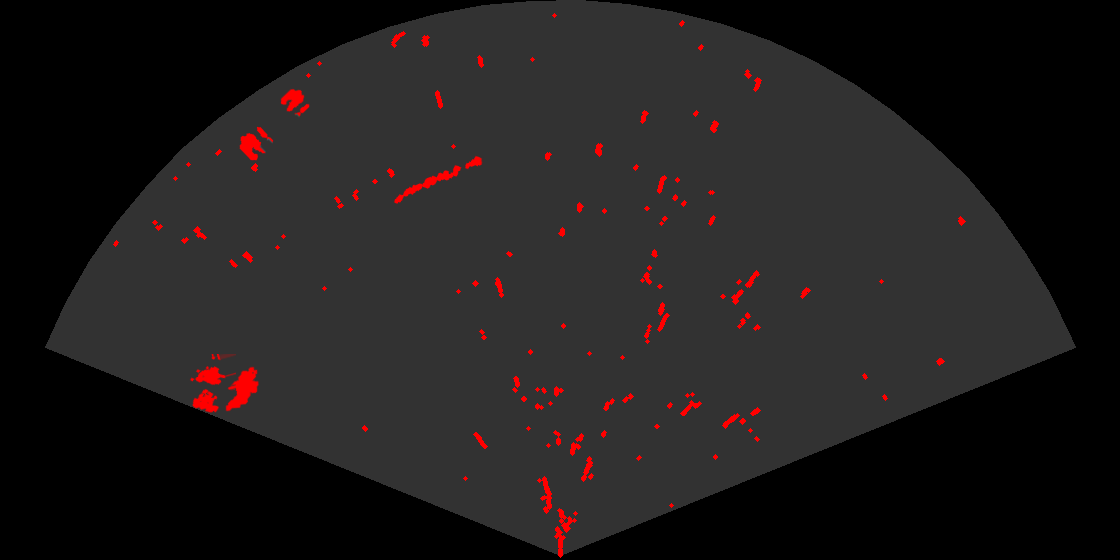AUV: (224, 365, 261, 413)
ball: (238, 125, 275, 162), (279, 87, 311, 118)
cage: (188, 354, 236, 414)
chain: (393, 155, 484, 205)
